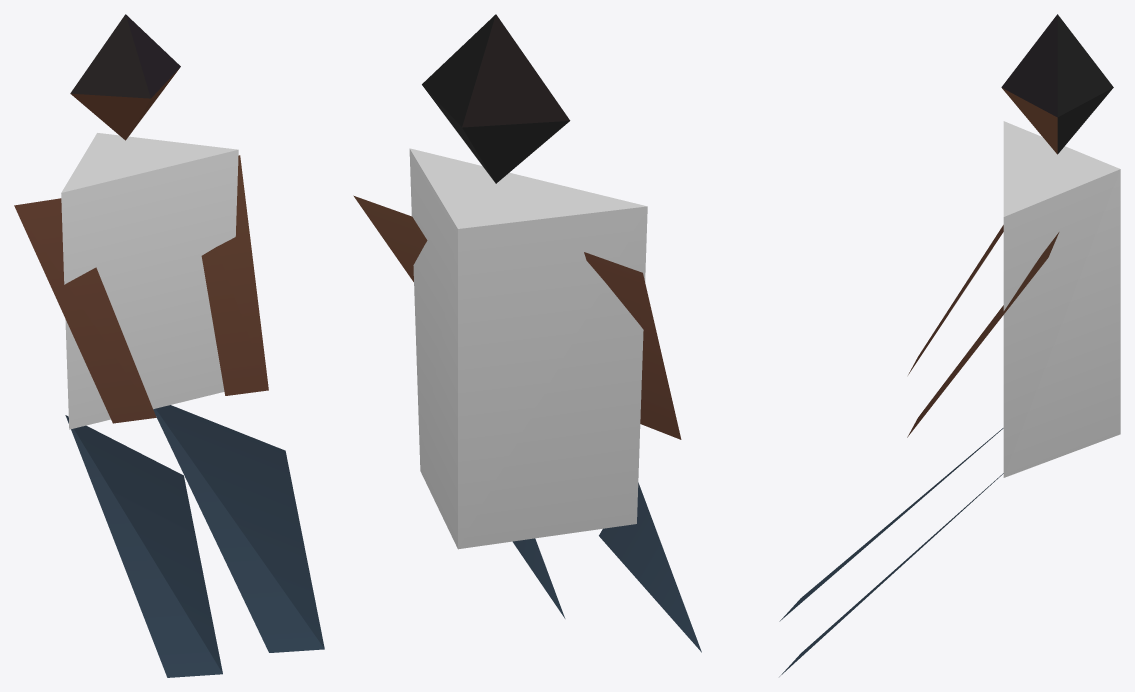
File: fan-04.glb
3 renders of one model, left to right at view 1: azimuth 30°, elevation 25°; view 2: azimuth 150°, elevation 25°; view 3: azimuth 270°, elevation 25°, orthographic. The views are drawn at different scales.
Parts seen in each view (by area): view 1: fan-04; view 2: fan-04; view 3: fan-04.
Boxes of the visible parts, x1,y1,x2,y2 form: fan-04: [14, 14, 324, 677]; fan-04: [353, 14, 701, 652]; fan-04: [779, 14, 1120, 676].
Size of the model in its own units: 0.63 by 1.53 by 0.76.
